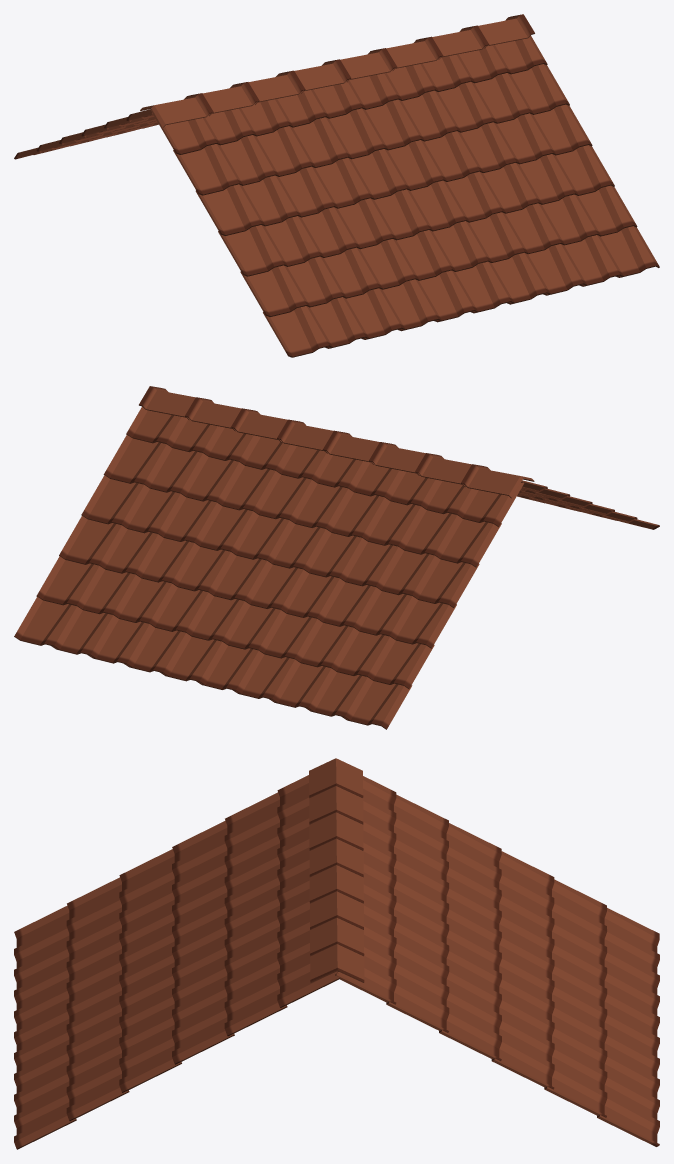
File: Genteng Gabung (1).fbx
3 renders of one model, top to bottom at view 1: azimuth 30°, elevation 25°; view 2: azimuth 150°, elevation 25°; view 3: azimuth 270°, elevation 25°, orthographic. The views are drawn at different scales.
Visible parts, largest first — view 1: Genteng; view 2: Genteng; view 3: Genteng.
Boxes of the visible parts, box(x1,y1,x2,y2) form: Genteng: box(14, 14, 659, 357); Genteng: box(14, 386, 659, 729); Genteng: box(14, 758, 659, 1149).
Bounding box in the file's own units: 1491 × 588 × 1902.
